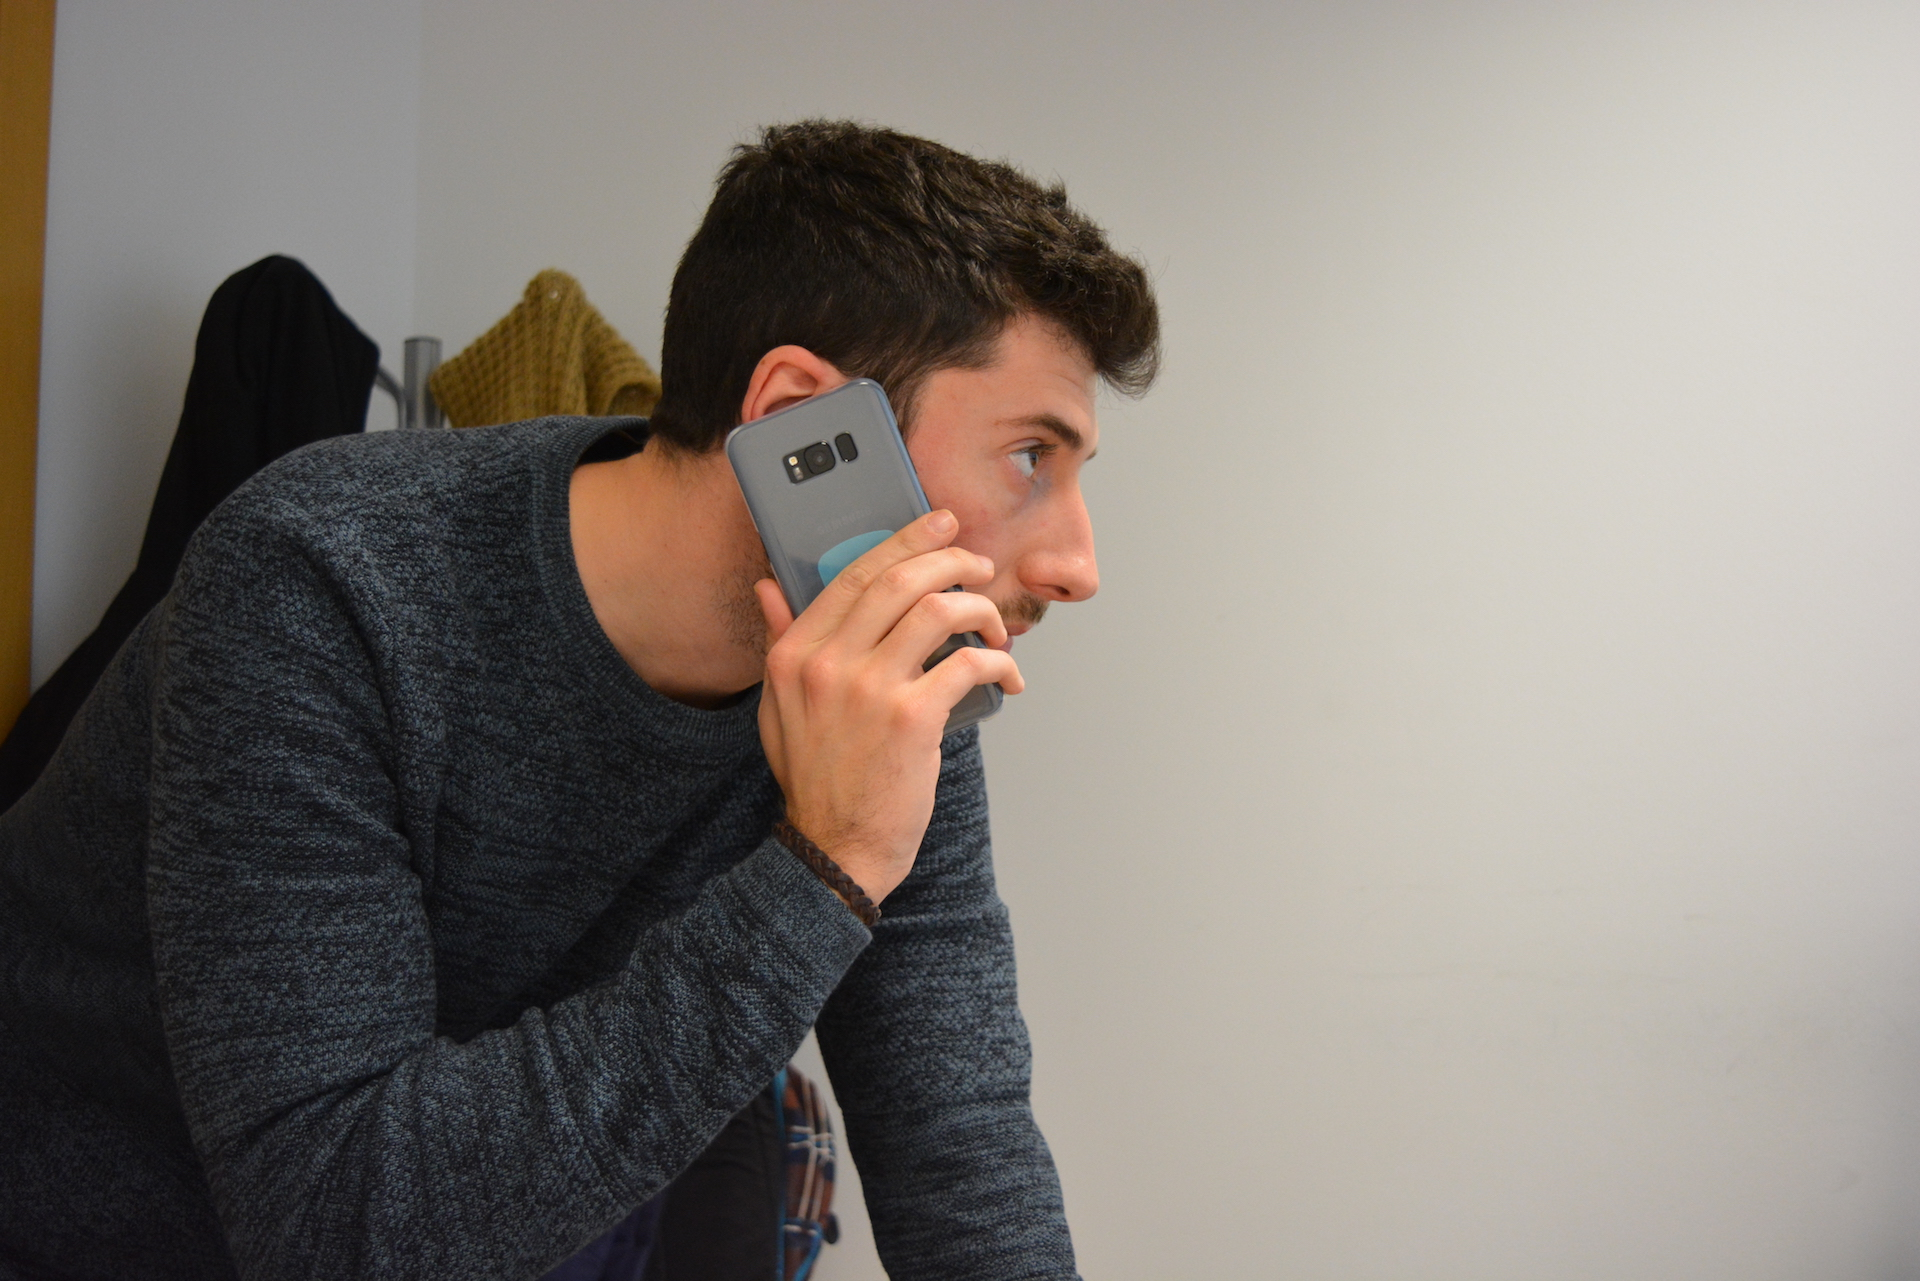smartphone: (723, 376, 1006, 736)
